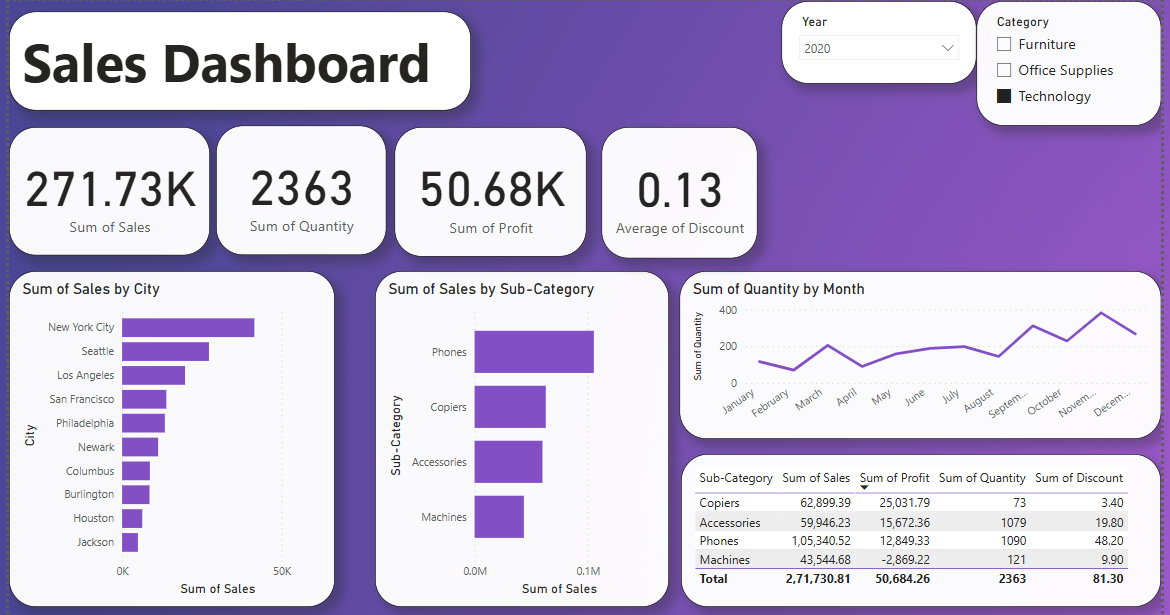

The page's visual inventory and layout, read from the dashboard file:
{"tool":"powerbi","page":{"name":"Final","canvas":[1280,720],"ordinal":6},"visuals":[{"type":"slicer","title":"Slicer","fields":{"Values":["Orders.Year"]},"box":[858.3,0,216.7,91.7],"z":0},{"type":"slicer","fields":{"Values":["Orders.Category"]},"box":[1075,0,205,138.3],"z":1000},{"type":"card","fields":{"Values":["Sum(Orders.Sales)"]},"box":[0,139,223.3,142.5],"z":1000,"group":"g1"},{"type":"card","fields":{"Values":["Sum(Orders.Quantity)"]},"box":[229.8,137.5,189.3,144.1],"z":2000,"group":"g1"},{"type":"barChart","fields":{"Category":["Orders.City"],"Y":["Sum(Orders.Sales)"]},"box":[0,300,361.7,373.3],"z":2000},{"type":"card","fields":{"Values":["Sum(Orders.Profit)"]},"box":[428.9,139.1,213.6,144.1],"z":3000,"group":"g1"},{"type":"barChart","fields":{"Category":["Orders.Sub-Category"],"Y":["Sum(Orders.Sales)"]},"box":[406.7,300,326.7,373.3],"z":3000},{"type":"lineChart","fields":{"Category":["Orders.Order Date.Variation.Date Hierarchy.Month"],"Y":["Sum(Orders.Quantity)"]},"box":[745,300,535,186.7],"z":4000},{"type":"card","fields":{"Values":["Avg(Orders.Discount)"]},"box":[658.5,139,173.2,145.7],"z":5000,"group":"g1"},{"type":"tableEx","fields":{"Values":["Orders.Sub-Category","Sum(Orders.Sales)","Sum(Orders.Profit)","Sum(Orders.Quantity)","Sum(Orders.Discount)"]},"box":[746.7,503.3,533.3,170],"z":5000},{"type":"textbox","box":[0,11.7,513.3,110],"z":7000},{"type":"group","id":"g1","title":"Group 1","box":[0,137.5,831.6,147.2],"z":8000}]}

Visuals, with their boxes on the page's 1280x720 design canvas (x1, y1, x2, y2). These are canvas units, not pixel positions in the 1170x615 screenshot, which may show the page scaled, cropped or inside an application window:
"Slicer" slicer: bbox=(858, 0, 1075, 92)
slicer - Orders.Category: bbox=(1075, 0, 1280, 138)
card - Sum(Orders.Sales): bbox=(0, 139, 223, 282)
card - Sum(Orders.Quantity): bbox=(230, 138, 419, 282)
barChart - Orders.City x Sum(Orders.Sales): bbox=(0, 300, 362, 673)
card - Sum(Orders.Profit): bbox=(429, 139, 642, 283)
barChart - Orders.Sub-Category x Sum(Orders.Sales): bbox=(407, 300, 733, 673)
lineChart - Orders.Order Date.Variation.Date Hierarchy.Month x Sum(Orders.Quantity): bbox=(745, 300, 1280, 487)
card - Avg(Orders.Discount): bbox=(658, 139, 832, 285)
tableEx - Orders.Sub-Category x Sum(Orders.Sales): bbox=(747, 503, 1280, 673)
textbox: bbox=(0, 12, 513, 122)
"Group 1" group: bbox=(0, 138, 832, 285)
